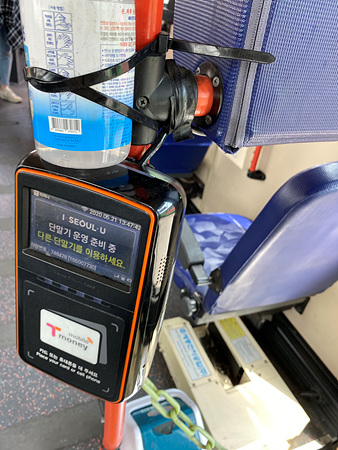terminal: (16, 154, 176, 399)
